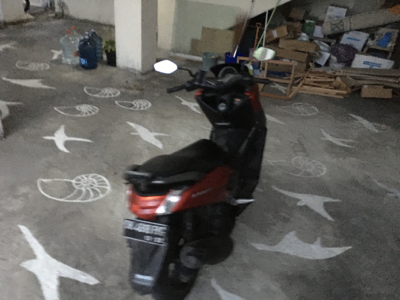moto: (121, 54, 269, 300)
